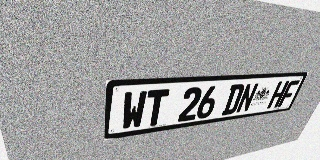2: (178, 87, 203, 122)
6: (195, 85, 220, 119)
D: (221, 84, 246, 115)
F: (277, 80, 300, 107)
H: (266, 81, 290, 109)
N: (235, 83, 259, 113)
T: (143, 89, 170, 127)
W: (121, 90, 147, 130)
